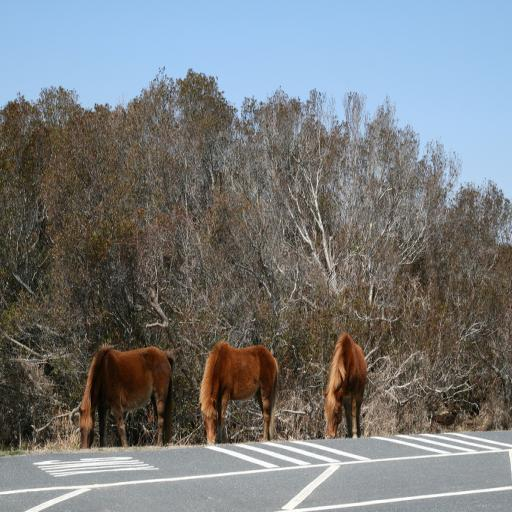horse: (78, 342, 176, 452), (198, 336, 280, 448), (325, 332, 369, 440)
